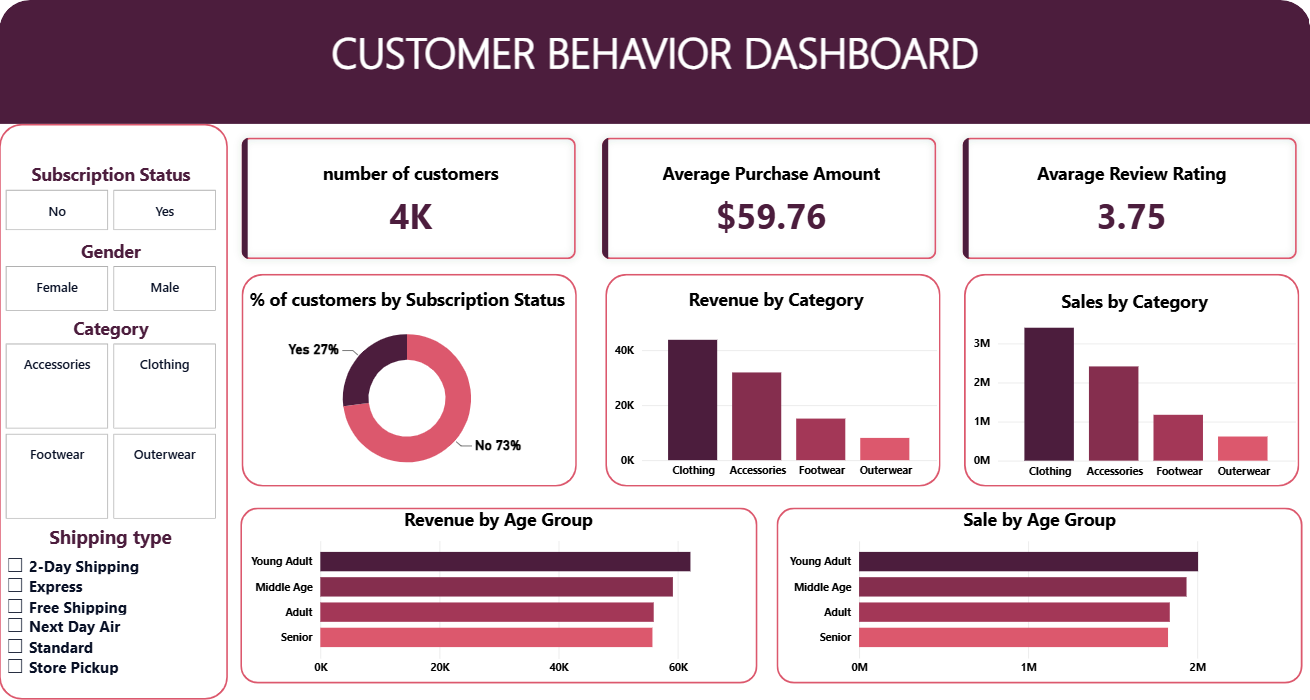

Layout of this report page (visuals, bound fields, positions):
{"tool":"powerbi","page":{"name":"Page 1","canvas":[1500,800],"ordinal":0},"visuals":[{"type":"cardVisual","fields":{"Data":["customer_behavior customer.number of customers","customer_behavior customer.Average Purchase Amount","customer_behavior customer.Avarage Review Rating"]},"box":[261.7,141.7,1238.3,171.7],"z":0},{"type":"shape","box":[0,0,1500,141.7],"z":1000},{"type":"textbox","box":[0,21.7,1500,100],"z":2000},{"type":"shape","box":[0,141.7,261.7,658.3],"z":3000},{"type":"shape","box":[276.7,313.3,383.3,243.3],"z":3000,"group":"g1"},{"type":"shape","box":[693.3,313.3,383.3,243.3],"z":4000,"group":"g3"},{"type":"shape","box":[1103.3,313.3,383.3,243.3],"z":4000,"group":"g2"},{"type":"advancedSlicerVisual","title":"Gender","fields":{"Values":["customer_behavior customer.gender"]},"box":[3.3,273.3,250,88.3],"z":5000},{"type":"advancedSlicerVisual","title":"Subscription Status","fields":{"Values":["customer_behavior customer.subscription_status"]},"box":[3.3,185,250,83.3],"z":6000},{"type":"shape","box":[276.2,580,591.3,201.2],"z":7000},{"type":"columnChart","title":"Revenue by Category","fields":{"Category":["customer_behavior customer.category"],"Y":["Sum(customer_behavior customer.previous_purchases)"]},"box":[698.7,328.7,378.8,227.5],"z":8000,"group":"g3"},{"type":"donutChart","title":"% of customers by Subscription Status","fields":{"Category":["customer_behavior customer.subscription_status"],"Y":["customer_behavior customer.number of customers"]},"box":[277.2,328.5,378.6,227.1],"z":9000,"group":"g1"},{"type":"clusteredBarChart","title":"Revenue by Age Group","fields":{"Y":["Sum(customer_behavior customer.purchase_amount)"],"Category":["customer_behavior customer.age_group"]},"box":[281,580,578.5,201.2],"z":9000},{"type":"shape","box":[888.8,580,601.2,201.2],"z":9000},{"type":"advancedSlicerVisual","title":"Category","fields":{"Values":["customer_behavior customer.category"]},"box":[3.3,361.7,250,236.7],"z":10000},{"type":"columnChart","title":"Sales by Category","fields":{"Category":["customer_behavior customer.category"],"Y":["Sum(customer_behavior customer.customer_id)"]},"box":[1108.3,330,378.3,226.7],"z":11000,"group":"g2"},{"type":"listSlicer","title":"Shipping type","fields":{"Values":["customer_behavior customer.shipping_type"]},"box":[3.8,598.8,246.2,182.5],"z":11000},{"type":"clusteredBarChart","title":"Sale by Age Group","fields":{"Category":["customer_behavior customer.age_group"],"Y":["Sum(customer_behavior customer.customer_id)"]},"box":[897.3,580,584.1,201.2],"z":12000},{"type":"group","id":"g1","title":"Group 3","box":[276.7,313.3,383.3,243.3],"z":13000},{"type":"group","id":"g2","title":"Group 5","box":[1103.3,313.3,383.3,243.3],"z":14000},{"type":"group","id":"g3","title":"Group 4","box":[693.3,313.3,384.2,243.3],"z":14003}]}

Visuals, with their boxes in screenshot pixels (x1, y1, x2, y2), scaled from the page's 1500x800 canvas onto the 1310x700 screenshot:
cardVisual - customer_behavior customer.number of customers x customer_behavior customer.Average Purchase Amount: x1=229 y1=124 x2=1309 y2=274
shape: x1=0 y1=0 x2=1309 y2=124
textbox: x1=0 y1=19 x2=1309 y2=106
shape: x1=0 y1=124 x2=229 y2=699
shape: x1=242 y1=274 x2=576 y2=487
shape: x1=605 y1=274 x2=940 y2=487
shape: x1=964 y1=274 x2=1298 y2=487
"Gender" advancedSlicerVisual: x1=3 y1=239 x2=221 y2=316
"Subscription Status" advancedSlicerVisual: x1=3 y1=162 x2=221 y2=235
shape: x1=241 y1=508 x2=758 y2=684
"Revenue by Category" columnChart: x1=610 y1=288 x2=941 y2=487
"% of customers by Subscription Status" donutChart: x1=242 y1=287 x2=573 y2=486
"Revenue by Age Group" clusteredBarChart: x1=245 y1=508 x2=751 y2=684
shape: x1=776 y1=508 x2=1301 y2=684
"Category" advancedSlicerVisual: x1=3 y1=316 x2=221 y2=524
"Sales by Category" columnChart: x1=968 y1=289 x2=1298 y2=487
"Shipping type" listSlicer: x1=3 y1=524 x2=218 y2=684
"Sale by Age Group" clusteredBarChart: x1=784 y1=508 x2=1294 y2=684
"Group 3" group: x1=242 y1=274 x2=576 y2=487
"Group 5" group: x1=964 y1=274 x2=1298 y2=487
"Group 4" group: x1=605 y1=274 x2=941 y2=487
